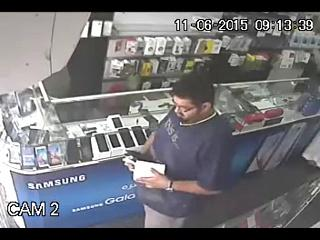shoplifting: (123, 70, 235, 228)
